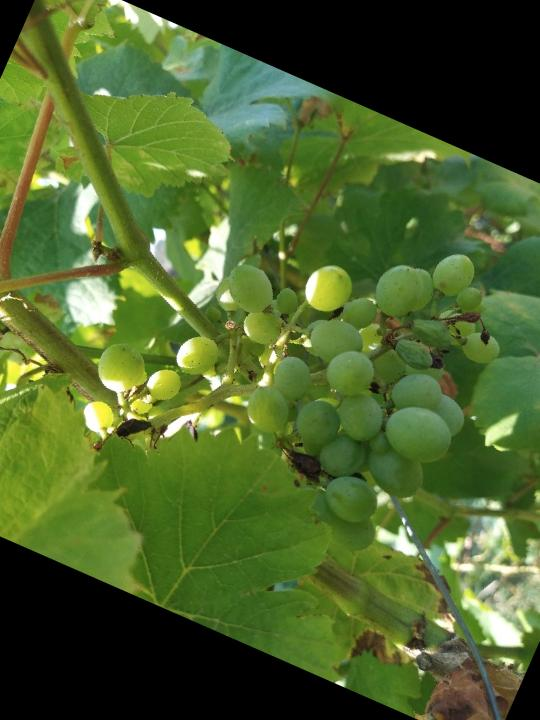grape: (68, 135, 536, 573)
